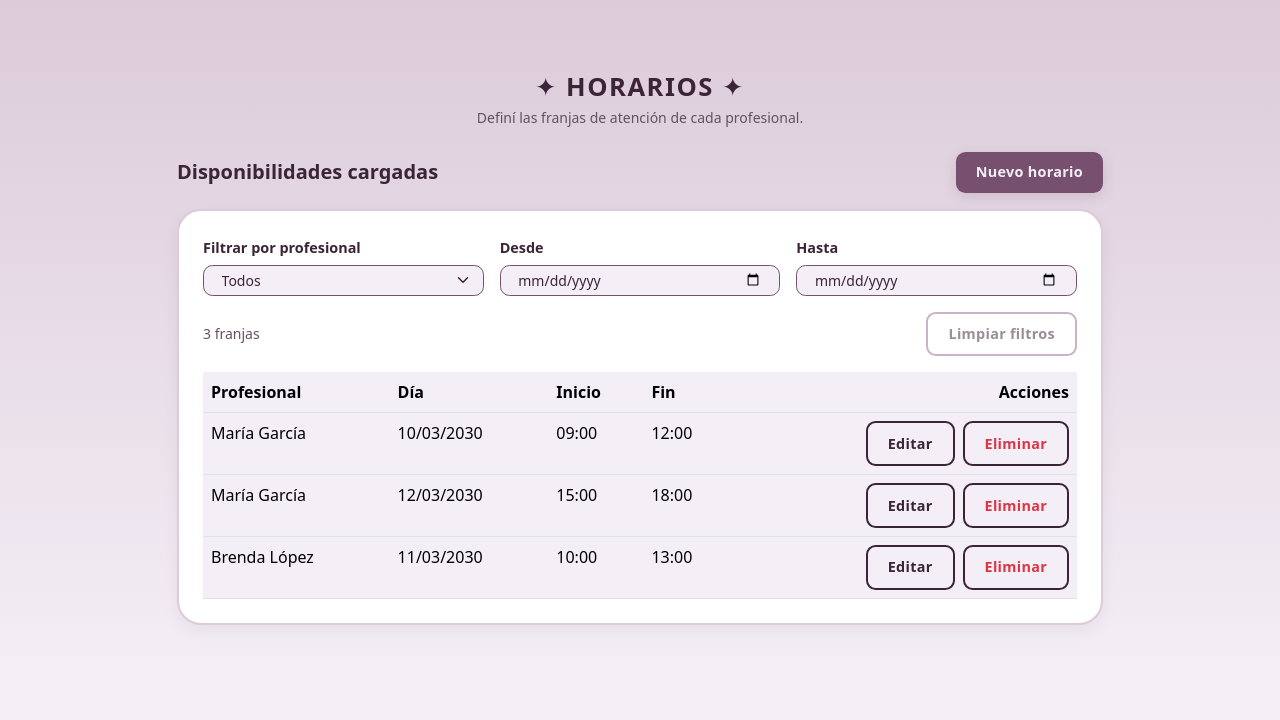
Test: AdminHorarios — creación › crea una disponibilidad y recarga el listado
The width and height of the screenshot is (1280, 720).
Click the button "Nuevo horario" at (1029, 172), box top-left (956, 152), bottom-right (1103, 192)
(page scrolled)
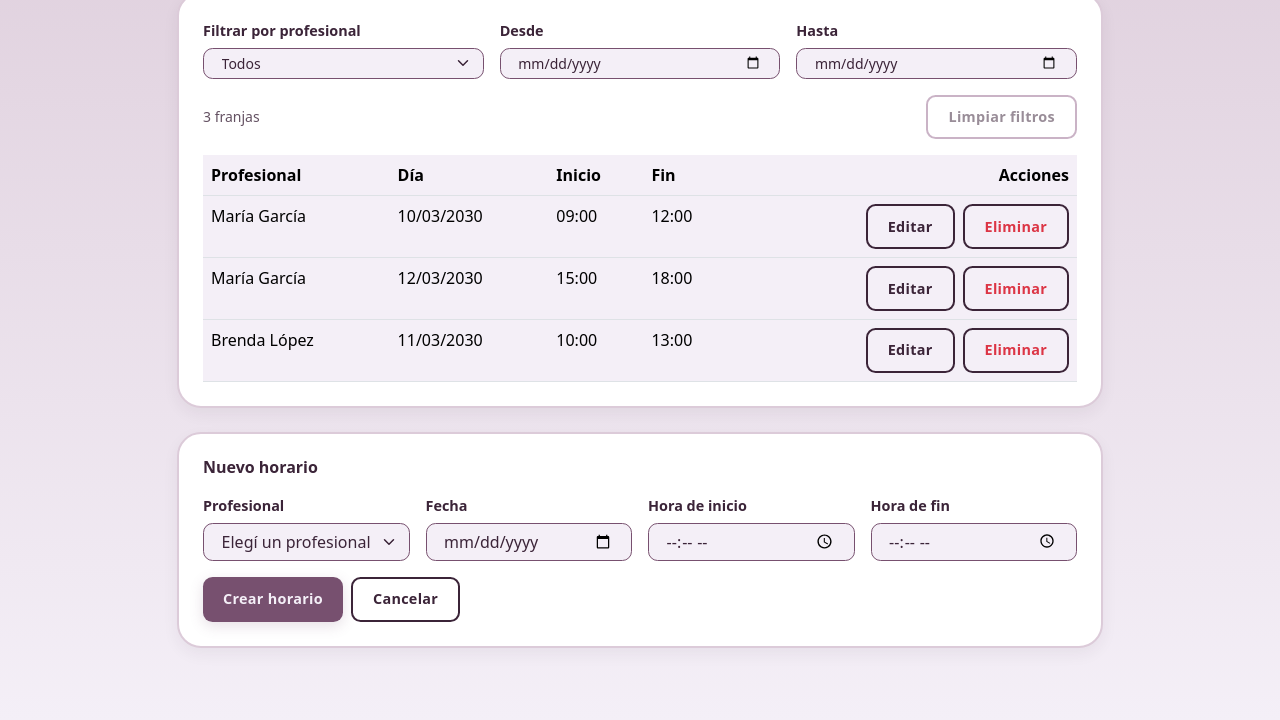
Select "María García" in the dropdown labelled "Profesional" at (306, 542), box top-left (203, 523), bottom-right (410, 561)
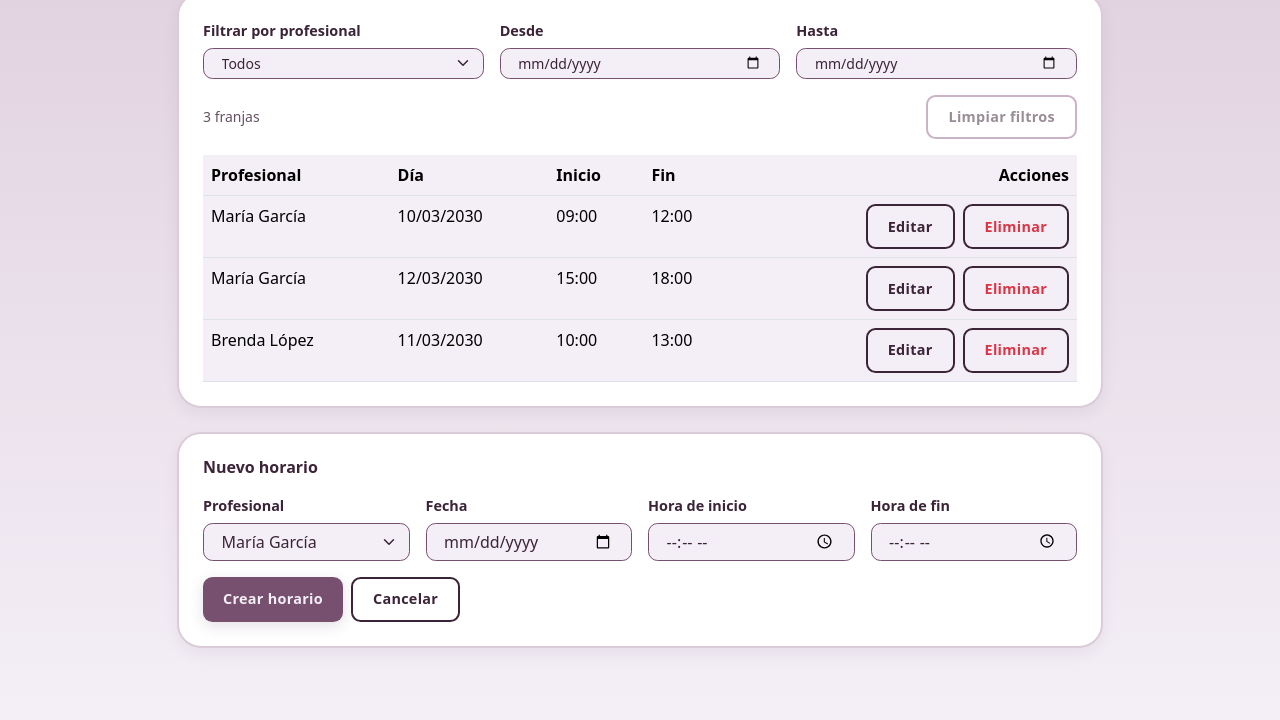
Type "2030-03-15" into the date field labelled "Fecha" at (529, 542), box top-left (426, 523), bottom-right (632, 561)
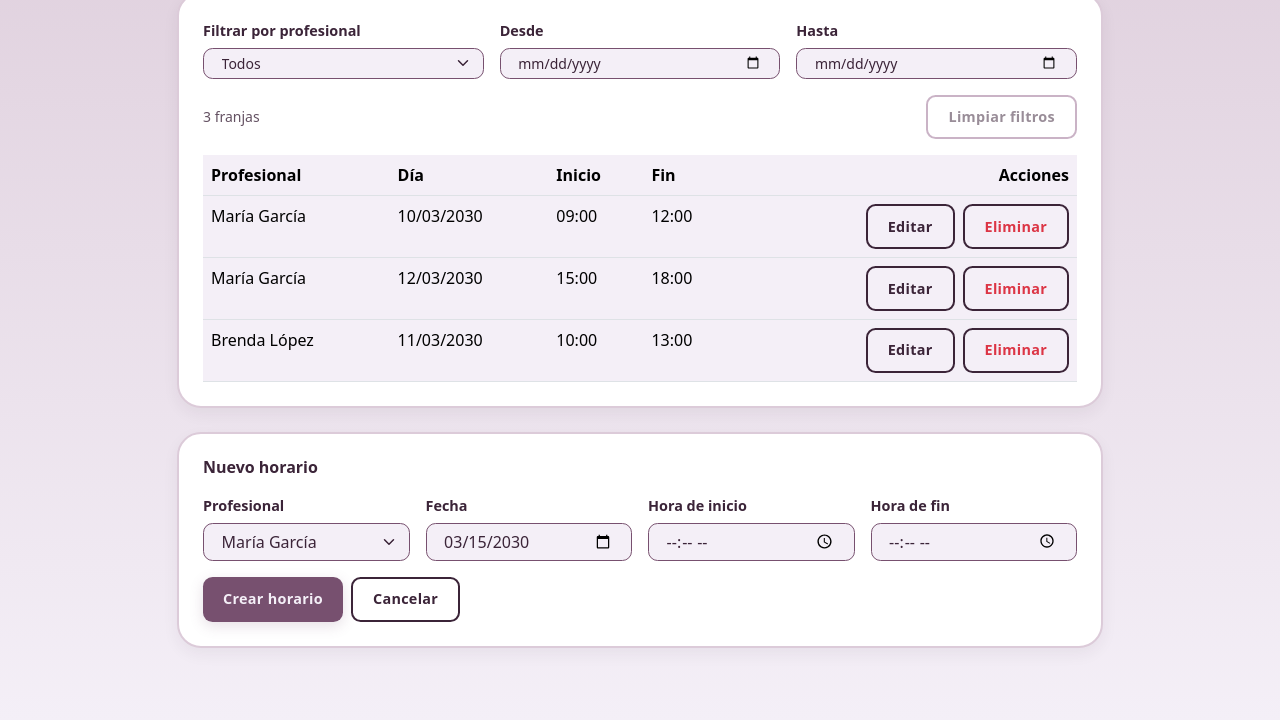
Type "09:00" into the time field labelled "Hora de inicio" at (751, 542), box top-left (648, 523), bottom-right (854, 561)
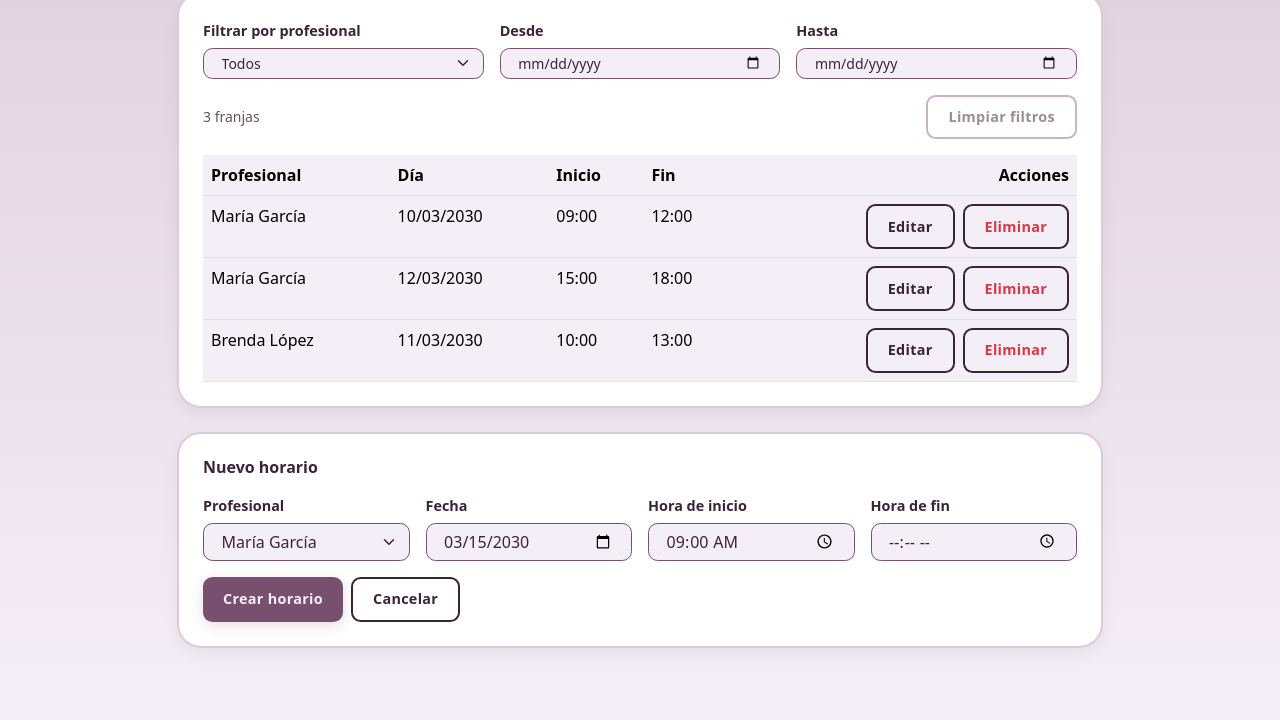
Type "12:00" into the time field labelled "Hora de fin" at (974, 542), box top-left (870, 523), bottom-right (1077, 561)
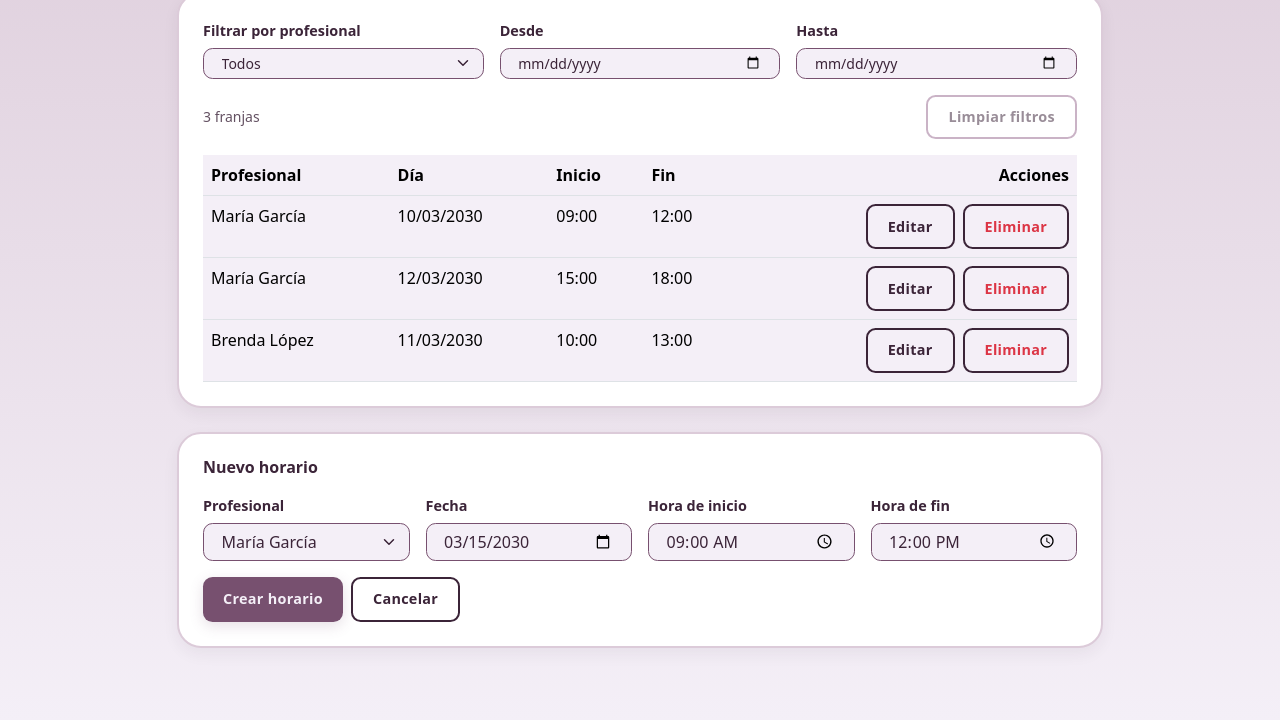
Click the button "Crear horario" at (273, 599), box top-left (203, 577), bottom-right (343, 622)
(page scrolled)
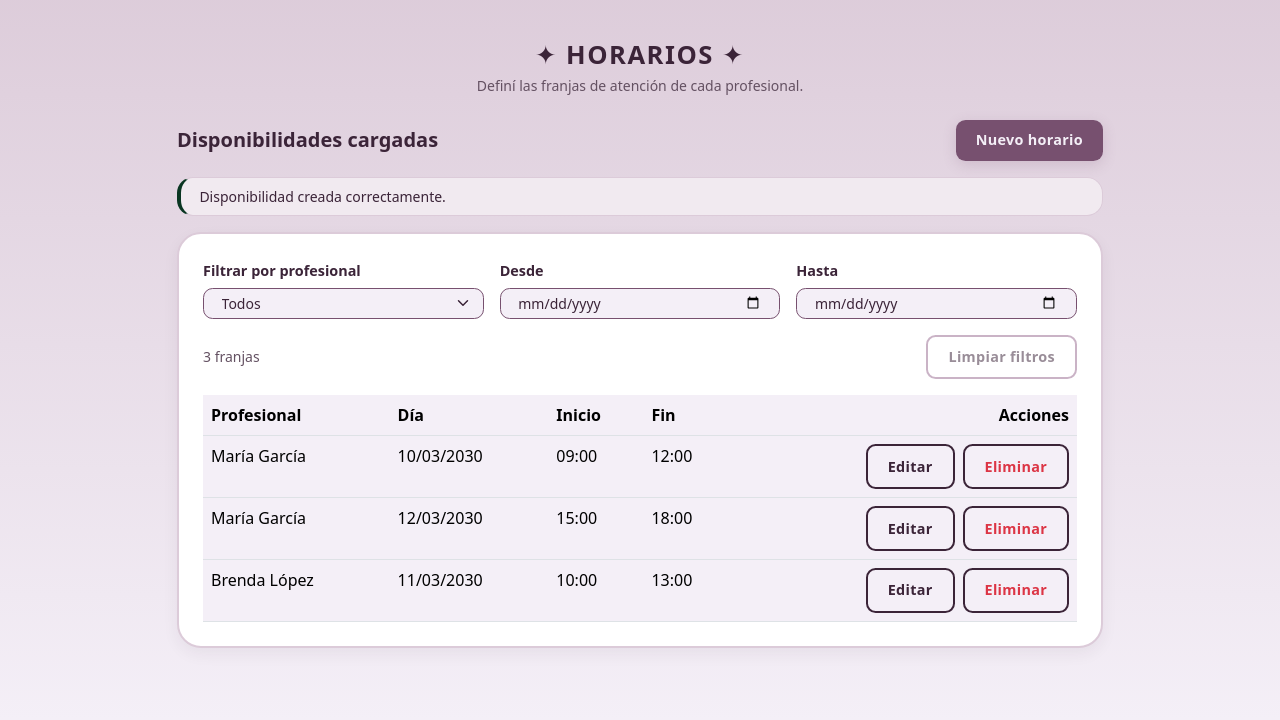
expect the text "Disponibilidad creada correctamente." is shown: met, box top-left (177, 176), bottom-right (1103, 216)
expect the button "Crear horario" is gone: met
